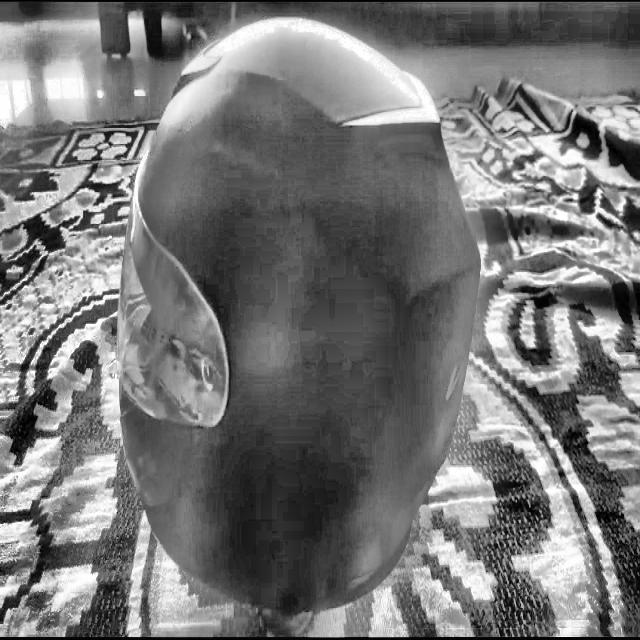Helmet: (122, 14, 481, 620)
